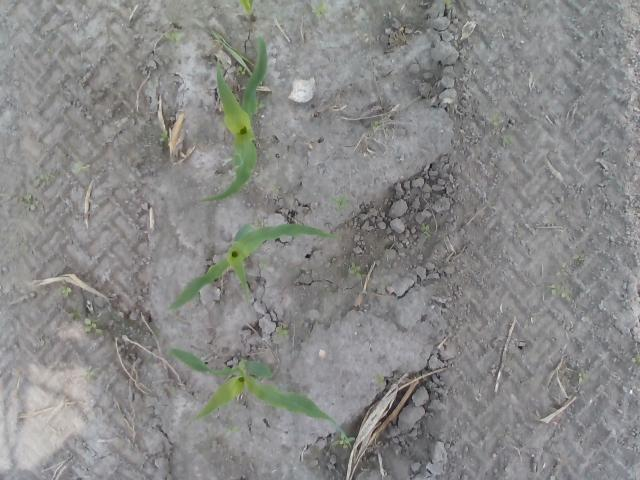Maize: (165, 344, 358, 456), (166, 220, 342, 312), (202, 35, 270, 206)
Weeds: (556, 254, 584, 276), (330, 434, 356, 451), (548, 283, 570, 303), (83, 318, 103, 337), (349, 260, 364, 281), (18, 196, 40, 210), (332, 193, 349, 210), (240, 1, 256, 19), (31, 172, 51, 186), (163, 31, 184, 42), (224, 422, 239, 437), (315, 4, 329, 20), (59, 282, 73, 298), (83, 366, 96, 382), (72, 161, 90, 172), (274, 325, 288, 339), (373, 376, 386, 390), (502, 136, 514, 150), (578, 372, 588, 386), (420, 224, 431, 236), (492, 114, 502, 127), (159, 128, 168, 142), (252, 103, 266, 112), (234, 65, 246, 75), (371, 120, 380, 132), (631, 354, 640, 364), (446, 1, 454, 10), (262, 262, 268, 270)
